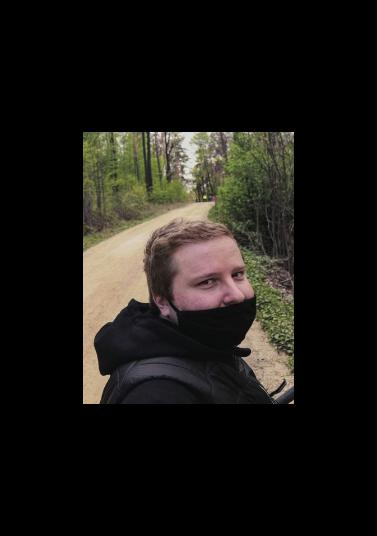mask_weared_incorrect: (167, 251, 260, 335)
